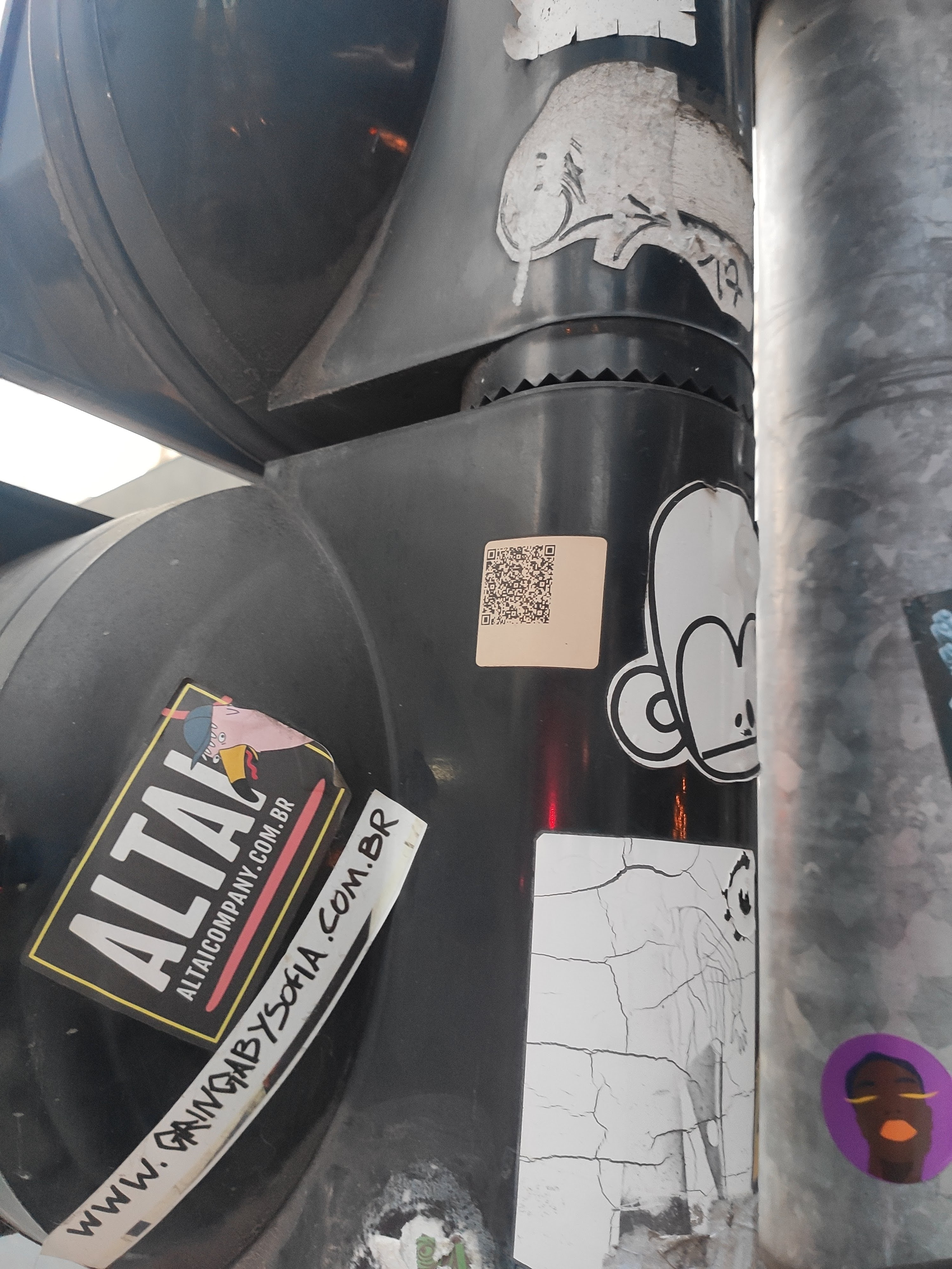QR-CODE: (481, 545, 555, 625)
